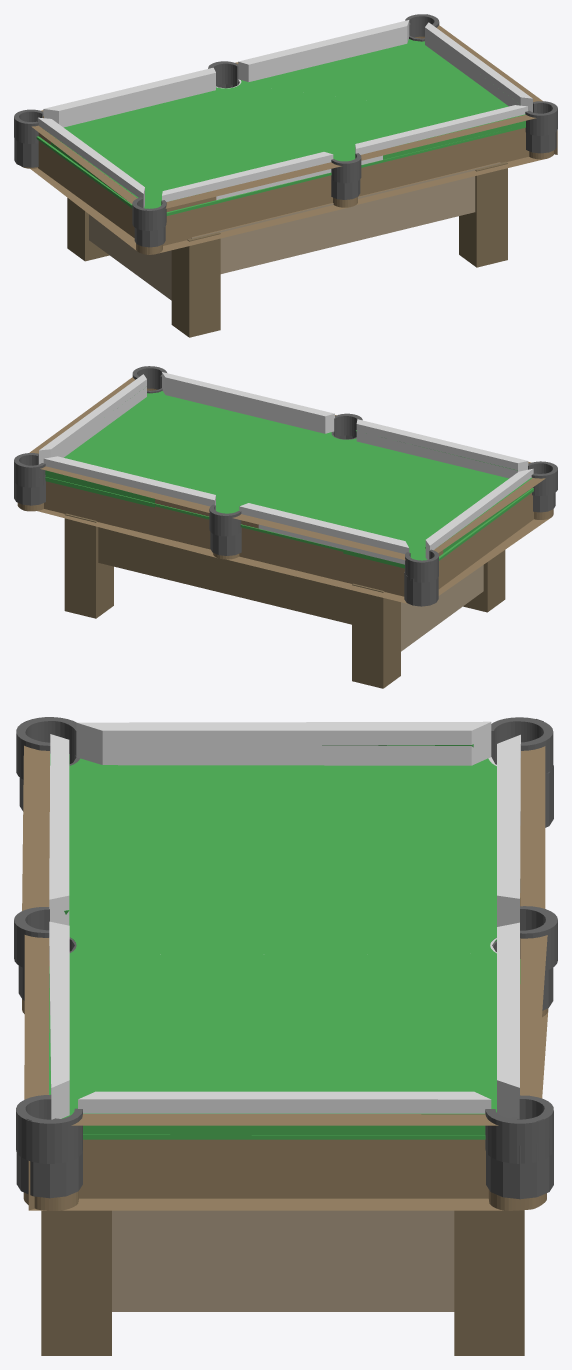
Rendered from pool_final_physics_mine.dae.
3 renders of one model, top to bottom at view 1: azimuth 30°, elevation 25°; view 2: azimuth 150°, elevation 25°; view 3: azimuth 270°, elevation 25°, orthographic. The views are drawn at different scales.
Parts seen in each view (by area): view 1: pooltable, Cube_001, Cube_002, Cube_003, Cube_005, Cube, Cube_004; view 2: pooltable, Cube, Cube_003, Cube_002, Cube_005, Cube_001, Cube_004; view 3: pooltable, Cube_004, Cube_005, Cube_001, Cube_002, Cube, Cube_003.
Part boxes in pixels (bbox=[...]): pooltable: bbox=[14, 14, 557, 337]; Cube_001: bbox=[238, 20, 409, 82]; Cube_002: bbox=[43, 67, 215, 127]; Cube_003: bbox=[162, 152, 333, 201]; Cube_005: bbox=[425, 22, 532, 112]; Cube: bbox=[355, 105, 527, 164]; Cube_004: bbox=[37, 117, 144, 208]; pooltable: bbox=[14, 366, 557, 688]; Cube: bbox=[162, 372, 334, 433]; Cube_003: bbox=[356, 419, 528, 478]; Cube_002: bbox=[239, 503, 409, 564]; Cube_005: bbox=[39, 374, 146, 464]; Cube_001: bbox=[43, 456, 215, 510]; Cube_004: bbox=[425, 468, 533, 559]; pooltable: bbox=[14, 717, 557, 1355]; Cube_004: bbox=[76, 721, 491, 765]; Cube_005: bbox=[78, 1091, 491, 1113]; Cube_001: bbox=[497, 922, 519, 1118]; Cube_002: bbox=[497, 734, 520, 926]; Cube: bbox=[49, 921, 69, 1119]; Cube_003: bbox=[49, 734, 69, 925].
Size of the model in its own units: 66.69 by 37.72 by 22.18.
